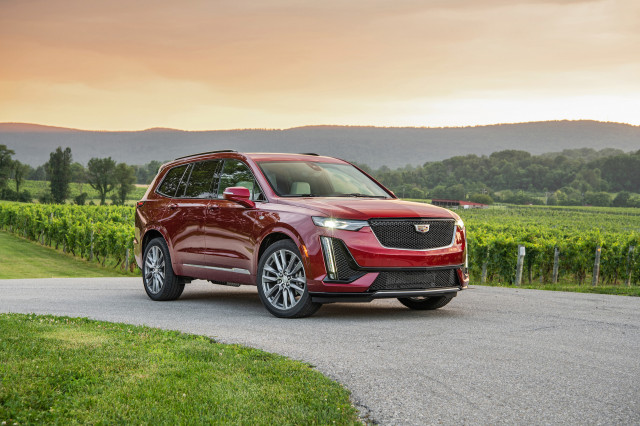car: (133, 149, 468, 319)
